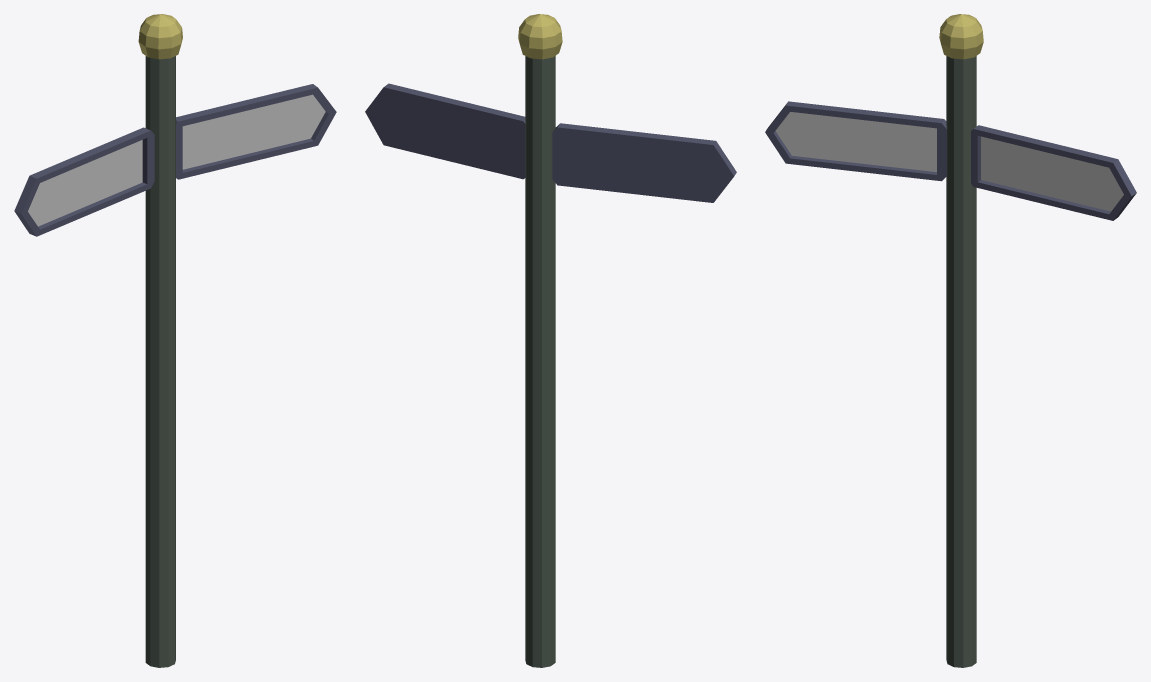
File: Letreros guia.fbx
3 views of the same model, side by side, from view 1: azimuth 30°, elevation 25°; view 2: azimuth 150°, elevation 25°; view 3: azimuth 330°, elevation 25° (orthographic).
Visible parts, largest first — view 1: Tubo, Letrero_Flecha_3, Letrero_Flecha_4; view 2: Tubo, Letrero_Flecha_4, Letrero_Flecha_3; view 3: Tubo, Letrero_Flecha_4, Letrero_Flecha_3.
Part boxes in pixels (x1=…): Tubo: x1=138, y1=14, x2=182, y2=667; Letrero_Flecha_3: x1=176, y1=84, x2=336, y2=179; Letrero_Flecha_4: x1=14, y1=127, x2=154, y2=236; Tubo: x1=518, y1=14, x2=562, y2=667; Letrero_Flecha_4: x1=552, y1=123, x2=736, y2=202; Letrero_Flecha_3: x1=365, y1=83, x2=525, y2=179; Tubo: x1=939, y1=14, x2=983, y2=667; Letrero_Flecha_4: x1=765, y1=101, x2=946, y2=181; Letrero_Flecha_3: x1=971, y1=125, x2=1136, y2=220.
Bounding box in the file's own units: 2.21 × 3.97 × 0.4454.
